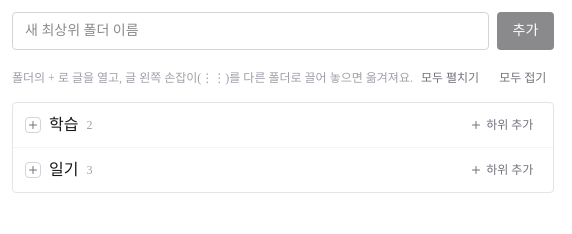
PostMover (글 이동 탭) › 폴더 추가 › 같은 단계(최상위)에 이미 있는 이름이면 요청을 보내지 않고 안내한다
Expected: the text "학습" is shown, [49,113,78,137]
Type "학습" into the field labelled "새 최상위 폴더 이름".
click(250, 31); type("학습")  # box [12,12,488,50]
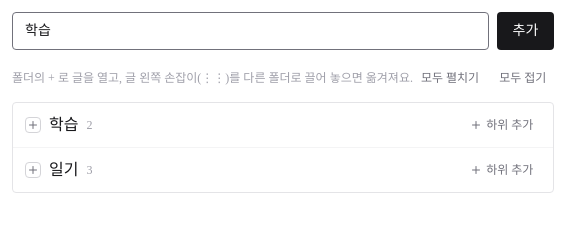
Click the button "추가".
click(525, 31)  # box [496,12,554,50]
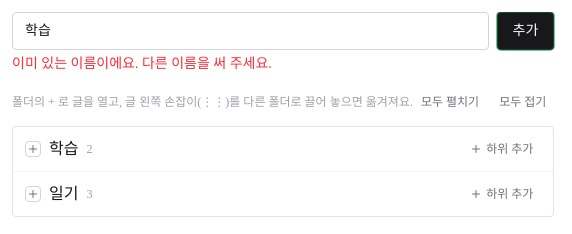
Result: the message shows "이미 있는 이름" at [12,56,272,71]
Type "2" into the field named "새 최상위 폴더 이름".
click(250, 31); type("2")  # box [12,12,488,50]
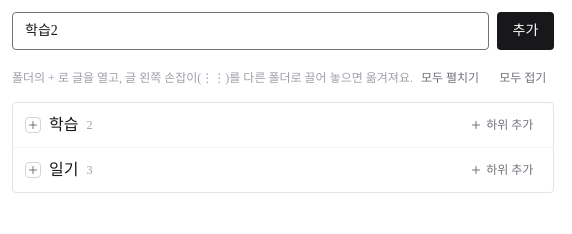
Result: the message "이미 있는 이름이에요. 다른 이름을 써 주세요." is gone
